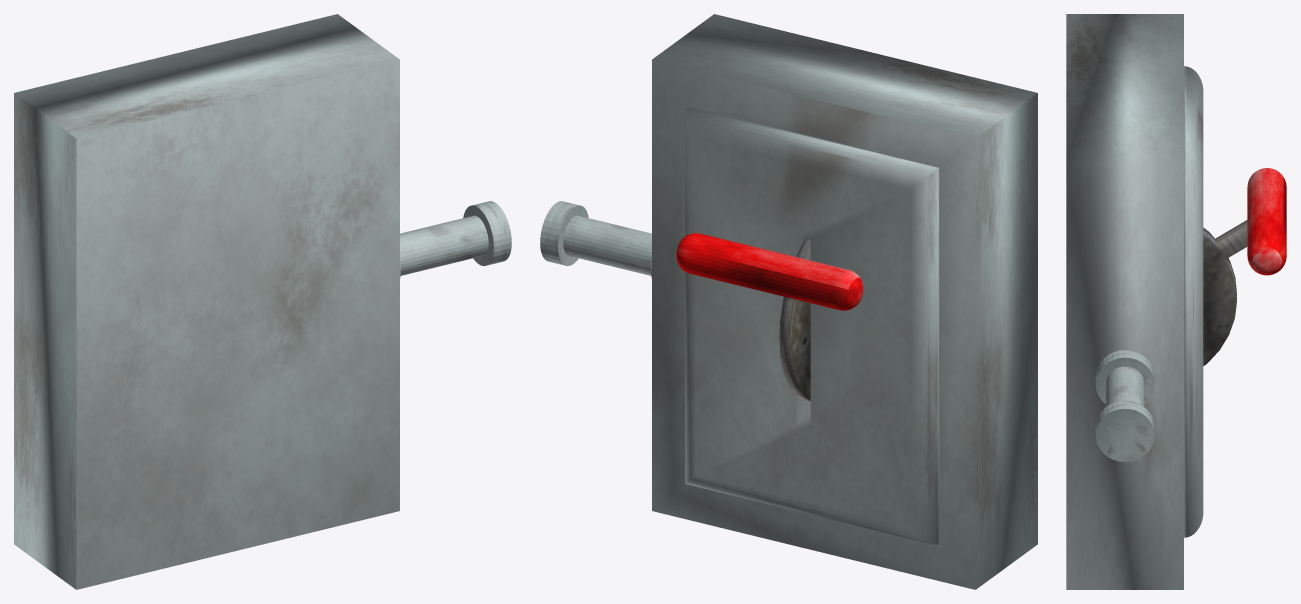
File: Main_Switch_set.fbx
3 views of the same model, side by side, from view 1: azimuth 30°, elevation 25°; view 2: azimuth 150°, elevation 25°; view 3: azimuth 270°, elevation 25° (orthographic). The views are drawn at different scales.
Parts seen in each view (by area): view 1: Side box, side box tube; view 2: Side box, Cylinder, side box tube; view 3: Side box, Cylinder, side box tube.
Boxes of the visible parts, x1,y1,x2,y2 form: Side box: [14, 14, 399, 589]; side box tube: [400, 201, 511, 278]; Side box: [652, 14, 1037, 589]; Cylinder: [676, 233, 863, 401]; side box tube: [540, 201, 651, 278]; Side box: [1066, 14, 1203, 589]; Cylinder: [1203, 168, 1286, 365]; side box tube: [1095, 350, 1154, 461].
Size of the model in its own units: 25.09 by 24 by 11.23.
Materials: 3 (3 with a texture image).
